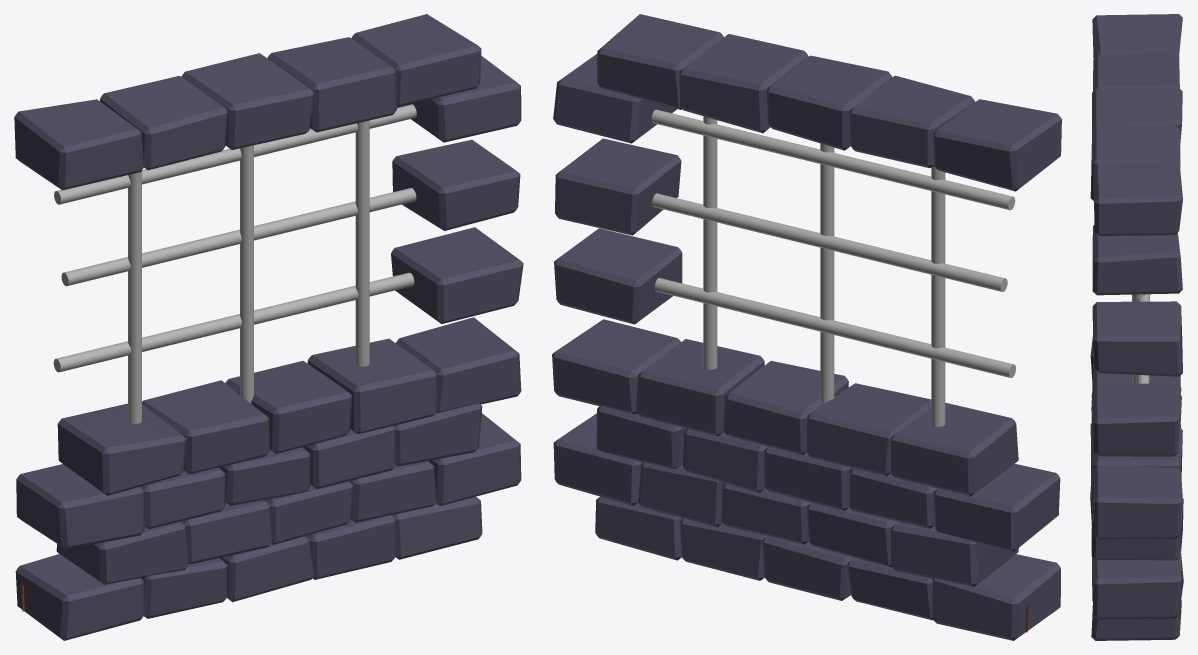
Rendered from BrickWindowClosed.glb.
The picture shows the model from 3 angles, left to right: view 1: azimuth 30°, elevation 25°; view 2: azimuth 150°, elevation 25°; view 3: azimuth 270°, elevation 25°; orthographic projection. The views are drawn at different scales.
Parts seen in each view (by area): view 1: Cube, Cube.004, Cube.003, Cylinder.004, Cylinder.003, Cylinder.005, Cylinder.002, Cylinder.001, Cylinder; view 2: Cube, Cube.004, Cube.003, Cylinder.005, Cylinder.004, Cylinder.003, Cylinder, Cylinder.001, Cylinder.002; view 3: Cube.004, Cube.003, Cube.
Boxes of the visible parts, <box> form: Cube: <box>15,317,521,640</box>; Cube.004: <box>14,14,481,190</box>; Cube.003: <box>391,56,523,324</box>; Cylinder.004: <box>53,272,414,372</box>; Cylinder.003: <box>61,188,416,286</box>; Cylinder.005: <box>54,104,416,204</box>; Cylinder.002: <box>355,120,369,366</box>; Cylinder.001: <box>240,145,253,403</box>; Cylinder: <box>128,171,141,423</box>; Cube: <box>552,319,1060,640</box>; Cube.004: <box>597,14,1061,191</box>; Cube.003: <box>553,54,682,324</box>; Cylinder.005: <box>651,109,1015,210</box>; Cylinder.004: <box>654,278,1015,377</box>; Cylinder.003: <box>652,193,1007,291</box>; Cylinder: <box>931,166,945,426</box>; Cylinder.001: <box>820,143,834,404</box>; Cylinder.002: <box>703,116,717,369</box>; Cube.004: <box>1090,14,1182,235</box>; Cube.003: <box>1092,225,1182,456</box>; Cube: <box>1090,336,1183,640</box>.
Bounding box in the file's own units: 2.22 × 2.27 × 0.4286.
6 materials, 2 textured.
